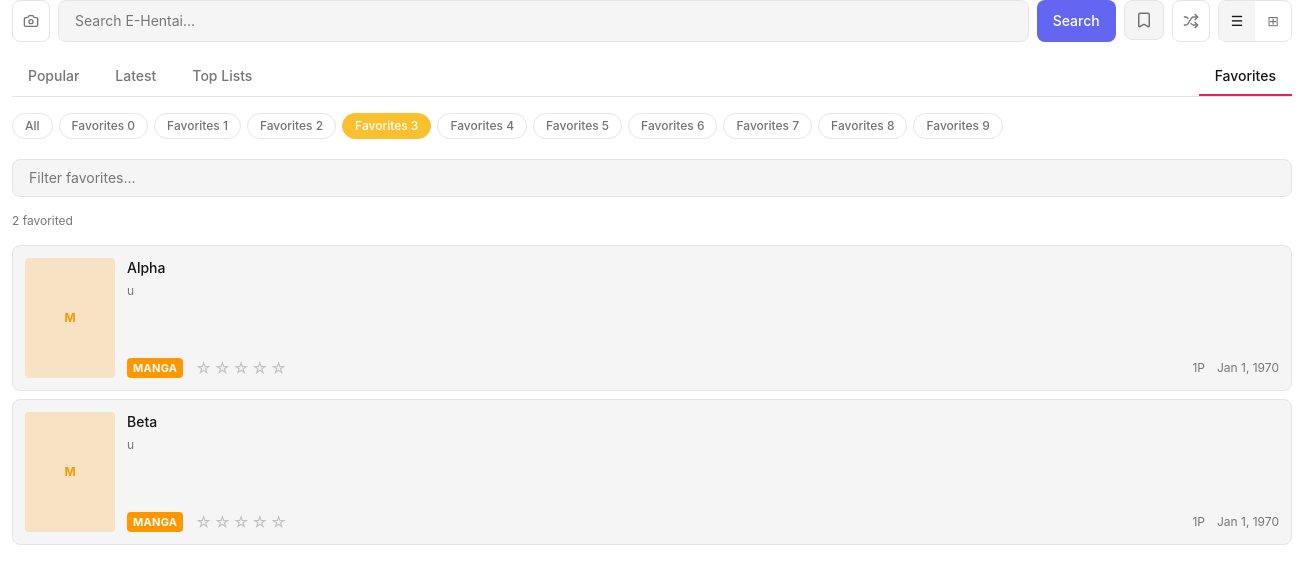
it: e-hentai favorites snapshot round-trip › restores buffer and scroll position after an in-page tab switch away and back
This screenshot has width=1304, height=562.
(page scrolled)
Expected: the heading "Alpha" is shown, x1=127 y1=259 x2=166 y2=276
What coordinates should you click on to do the following:
click the button "Popular"
I would click on:
 (54, 77)
Its box is x1=12 y1=58 x2=95 y2=96.
(page scrolled)
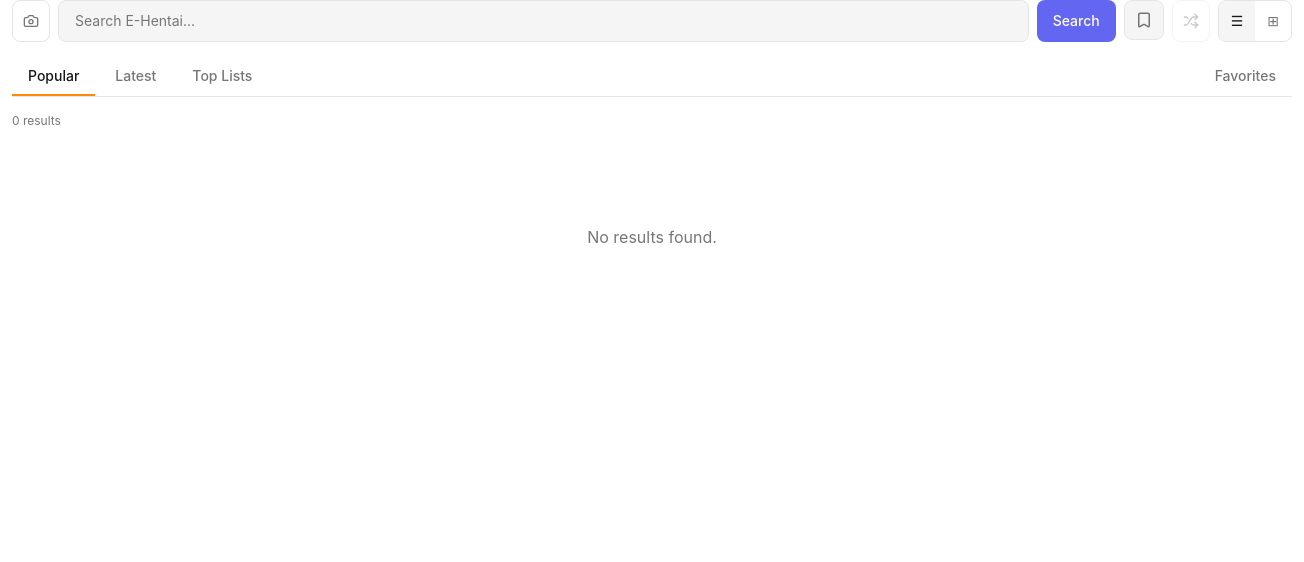
Result: the heading "Alpha" is gone
What coordinates should you click on to do the following:
click the button "Favorites"
I would click on:
 (1245, 77)
Its box is x1=1199 y1=58 x2=1292 y2=96.
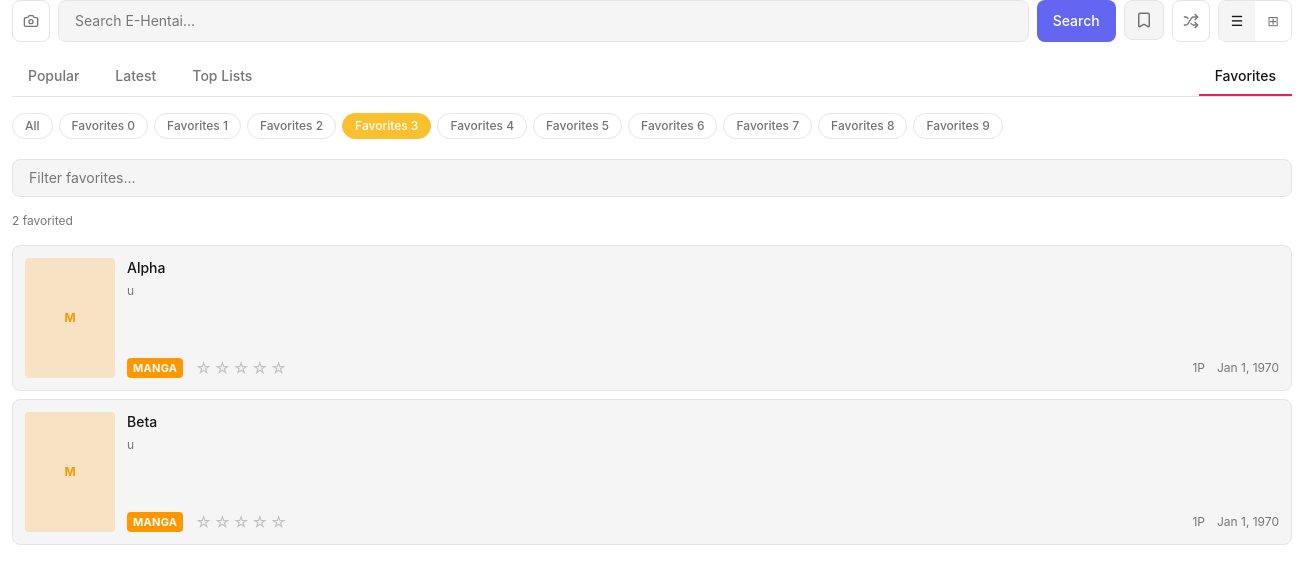
Result: the heading "Alpha" is shown at x1=127 y1=259 x2=166 y2=276
